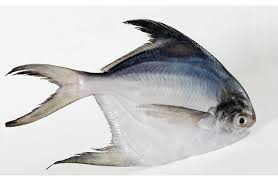Ikan Bawal: (9, 20, 257, 167)
